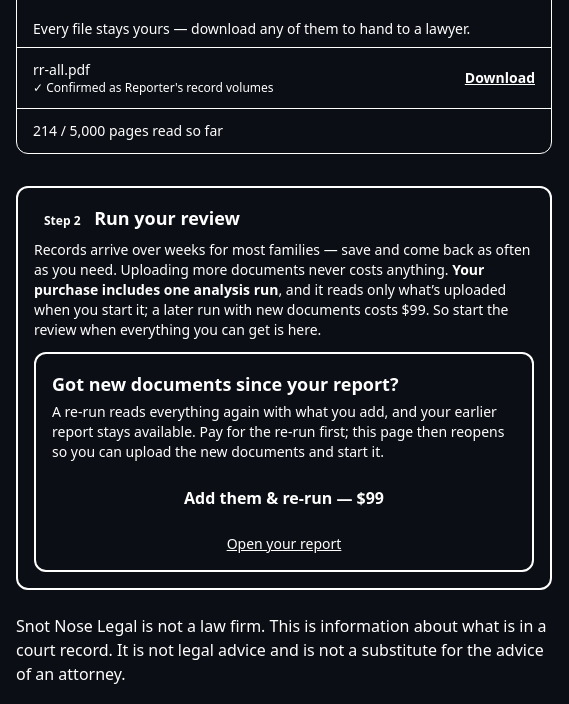
Test: re-run from the documents page › a failed checkout call says so and charges nothing
The image size is (569, 704).
(page scrolled)
Click the button with test id "rerun-buy": (284, 498) x1=52 y1=474 x2=516 y2=522
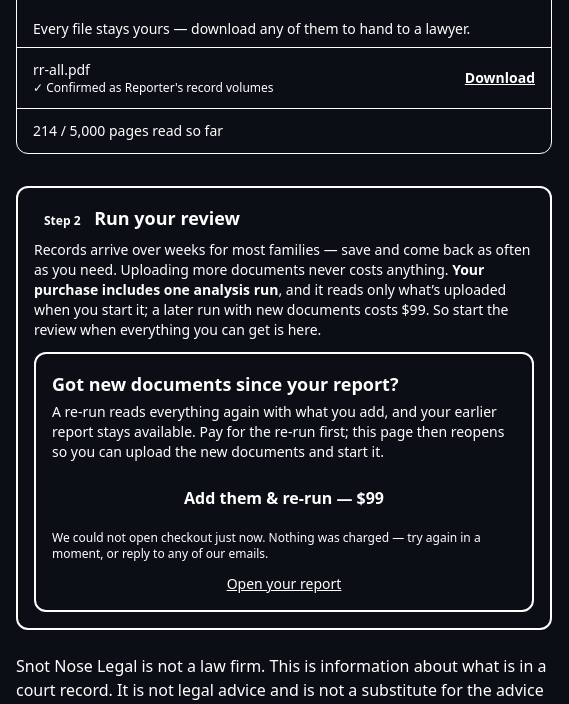
Expected: the message with test id "rerun-failed" shows "We could not open checkout just now. Nothing was charged — try again in a moment, or reply to any of our emails.", x1=52 y1=529 x2=481 y2=562
